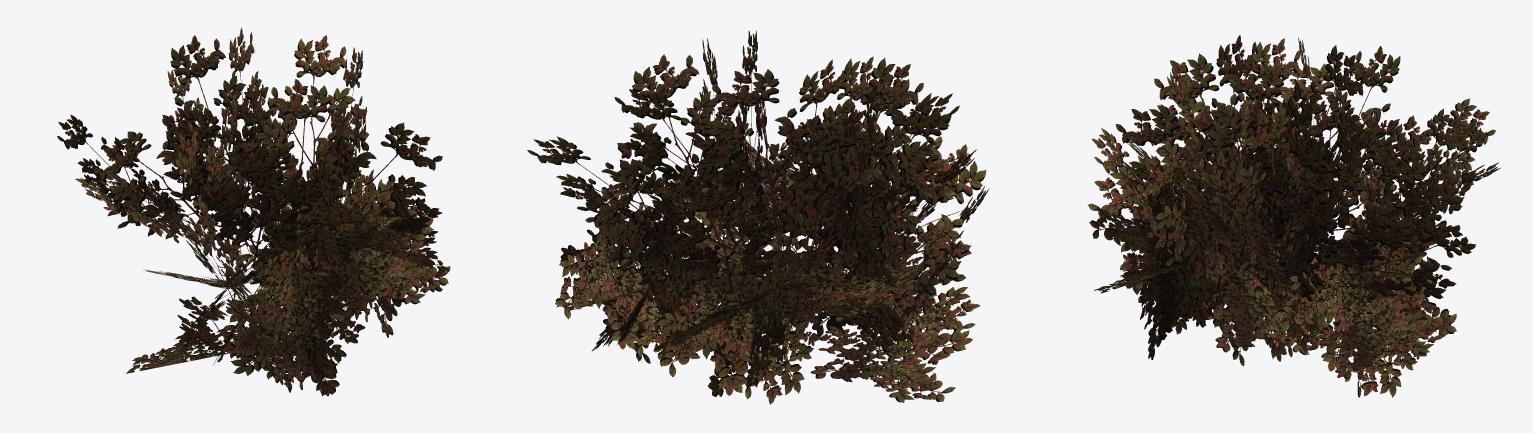
The model's file is Bush1.fbx.
The picture shows the model from 3 angles, left to right: view 1: azimuth 30°, elevation 25°; view 2: azimuth 150°, elevation 25°; view 3: azimuth 270°, elevation 25°; orthographic projection. The views are drawn at different scales.
Parts seen in each view (by area): view 1: Bush1; view 2: Bush1; view 3: Bush1.
Part boxes in pixels (x1=…): Bush1: x1=57, y1=27, x2=450, y2=396; Bush1: x1=527, y1=30, x2=989, y2=404; Bush1: x1=1088, y1=35, x2=1501, y2=397.
Size of the model in its own units: 44.92 by 36.07 by 43.87.
1 material, 1 textured.
